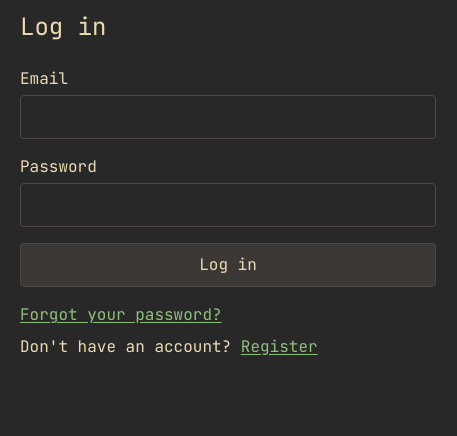
Test: Login › shows an alert on a failed login
This screenshot has width=457, height=436.
Type "logan@logandapp.com" into the field labelled "Email".
click(228, 117); type("logan@logandapp.com")  # box [20,95,436,139]
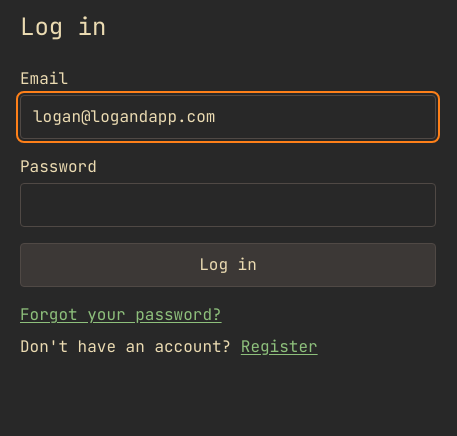
Type "wrong" into the password field labelled "Password".
click(228, 205); type("wrong")  # box [20,183,436,227]
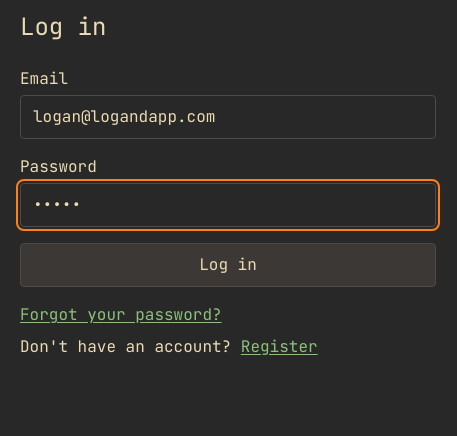
Click the button "Log in".
click(228, 265)  # box [20,243,436,287]
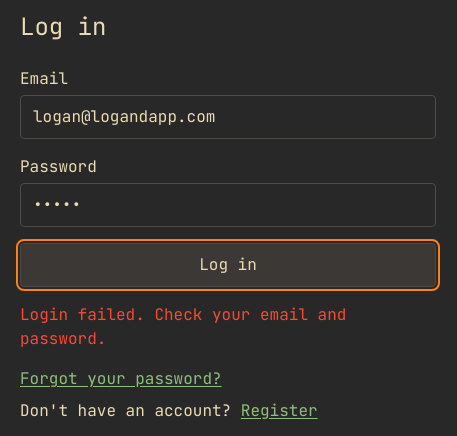
Expected: the message shows "Login failed", [20,304,346,349]
